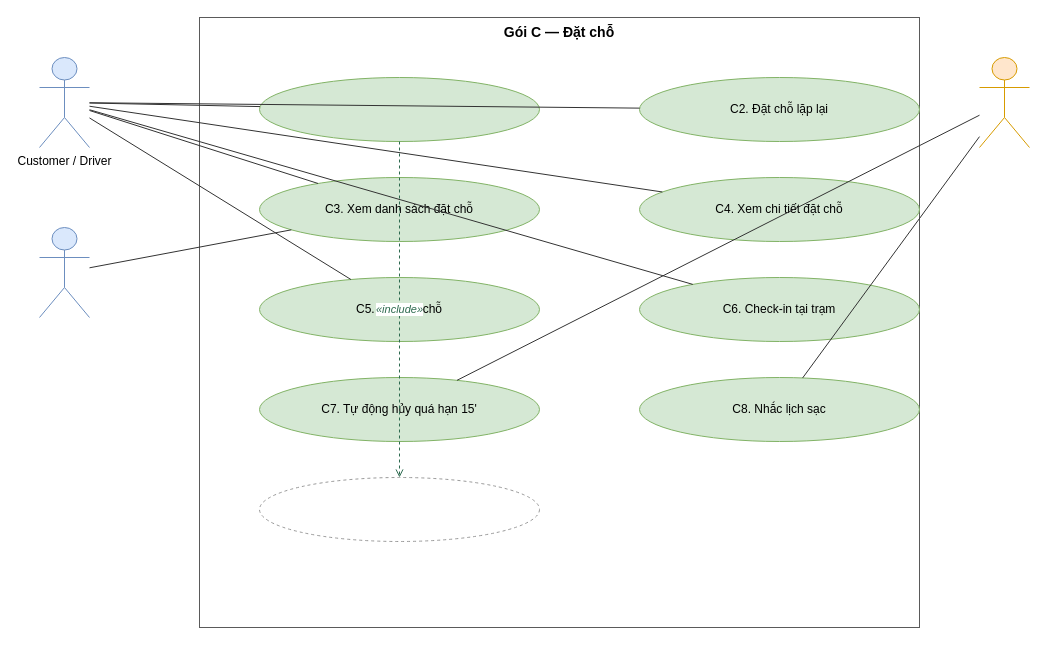
Image size: 1047x645. Some labels were removed from this diagram. The shapes that lost their labels are listed below. From the top down, each one's centre as x and y in pixels, then its label:
the point at 399,109: C1. Tạo đặt chỗ (1 lần)
the point at 1004,102: Cron
the point at 64,272: Admin
the point at 399,509: C9. Kiểm tra trùng khung giờ
